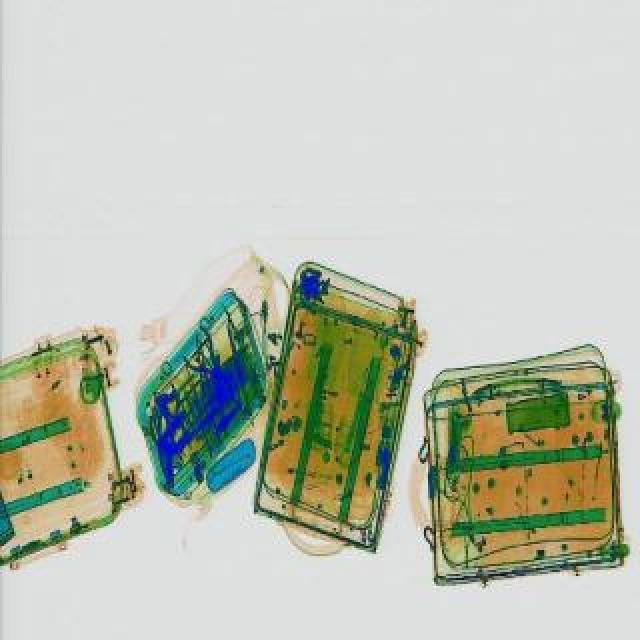wrench: (172, 322, 240, 390)
